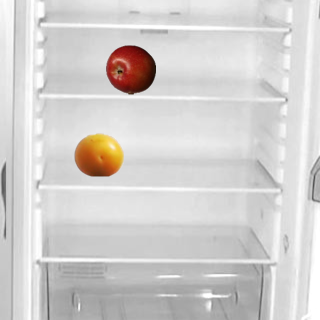Apple Braeburn: (105, 44, 155, 94)
Cherry Wax Yellow: (73, 129, 123, 179)
